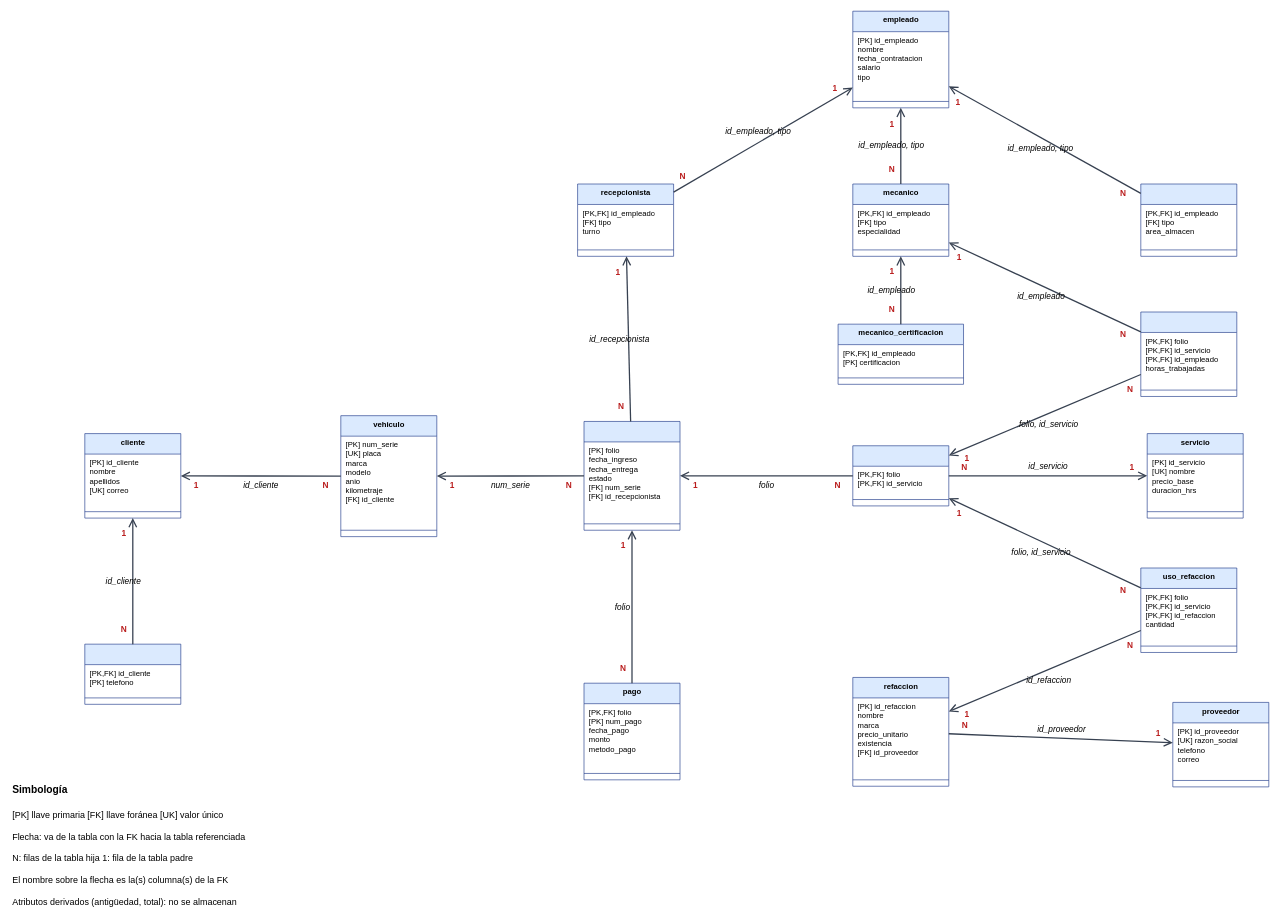
Some shapes in this 1280 by 920 pixel diagram are drawn without their labels. Here are the shapes that lost their labels. From the top down, the box of each, then its label:
(1140, 183, 1237, 256): almacenista
(1140, 311, 1237, 396): ejecucion
(583, 421, 680, 530): orden_servicio
(852, 445, 949, 506): detalle_servicio
(84, 644, 181, 704): cliente_telefono
